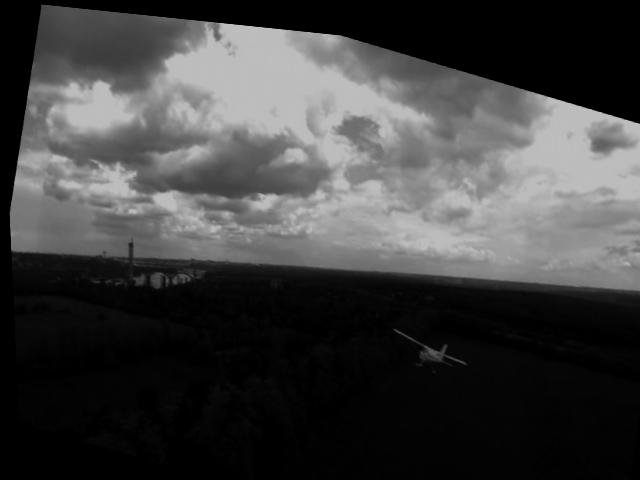hedef: (367, 305, 477, 384)
